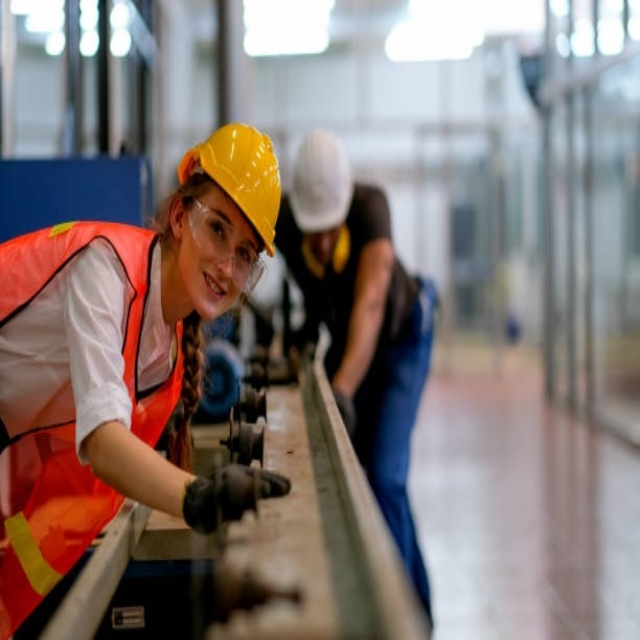Gafas: (187, 198, 269, 301)
Guantes: (181, 460, 296, 544)
Sin_mascara: (197, 264, 234, 328)
